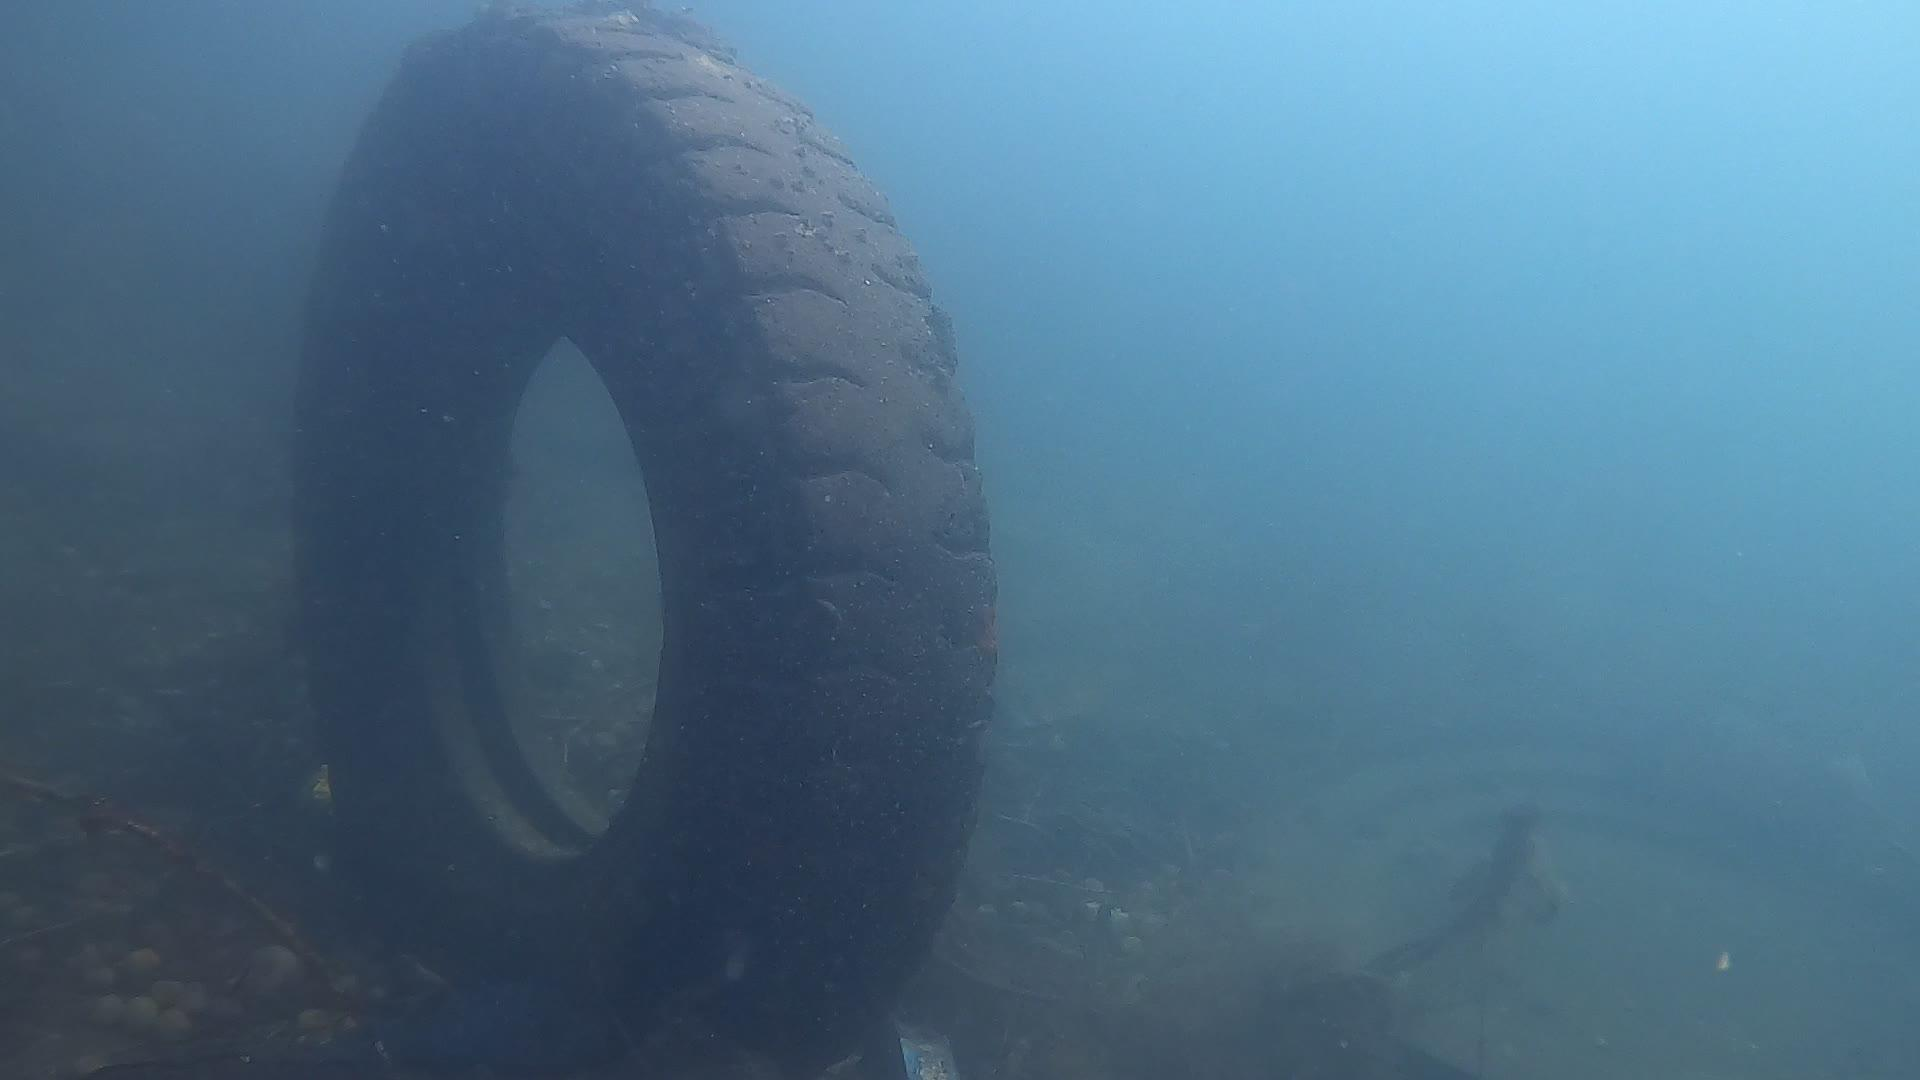tire: (286, 5, 992, 1080)
